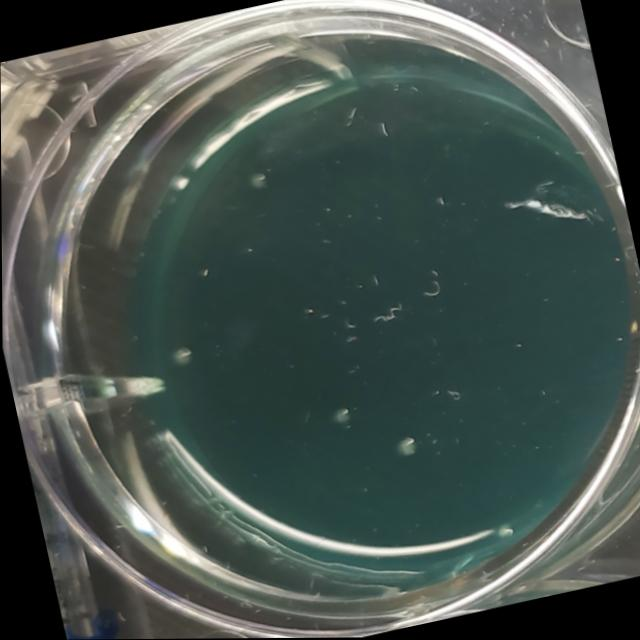vibrio: (164, 335, 200, 374), (320, 397, 356, 434), (240, 163, 276, 195), (490, 515, 519, 547), (392, 433, 422, 462)
